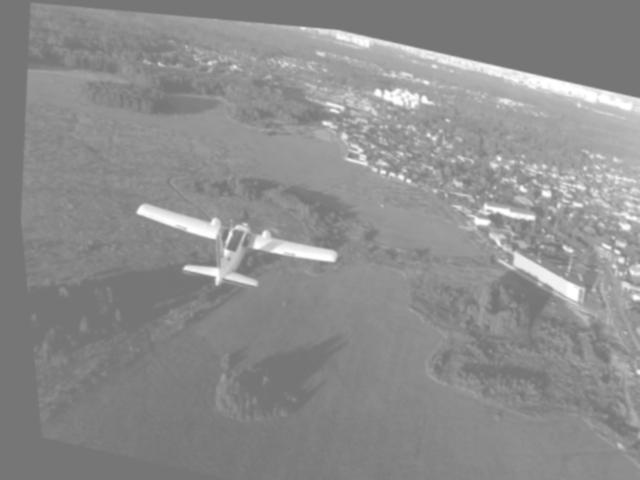hedef: (119, 188, 347, 310)
